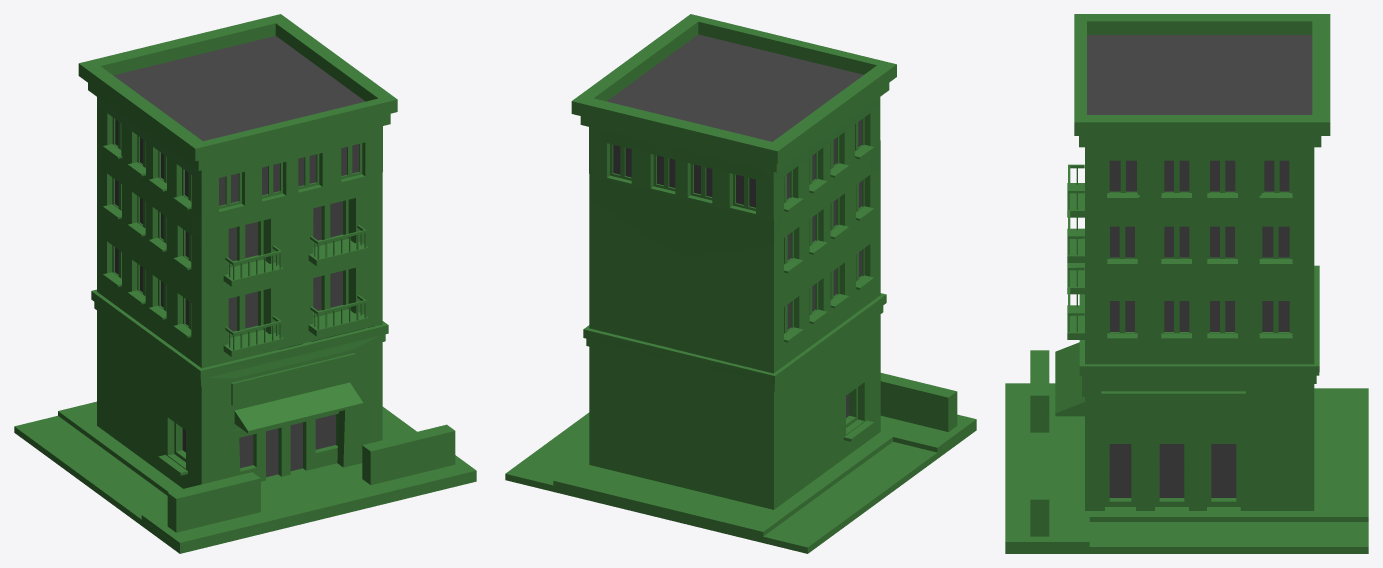
Rendered from Low_Poly_Building_f943ba28.glb.
3 views of the same model, side by side, from view 1: azimuth 30°, elevation 25°; view 2: azimuth 150°, elevation 25°; view 3: azimuth 270°, elevation 25° (orthographic). The views are drawn at different scales.
Parts seen in each view (by area): view 1: Object017_17 - Default_0, Object016_16 - Defaultghj_0, Object019_04_0, Object018_06 - Default_0, Object014_15 - Default6_0, Object020_15 - Default_0, Object015_17 - Default_0; view 2: Object016_16 - Defaultghj_0, Object018_06 - Default_0, Object017_17 - Default_0, Object019_04_0, Object014_15 - Default6_0; view 3: Object017_17 - Default_0, Object016_16 - Defaultghj_0, Object019_04_0, Object018_06 - Default_0, Object014_15 - Default6_0, Object020_15 - Default_0.
Part boxes in pixels (bbox=[...]): Object017_17 - Default_0: bbox=[58, 14, 476, 547]; Object016_16 - Defaultghj_0: bbox=[94, 97, 385, 386]; Object019_04_0: bbox=[113, 36, 365, 477]; Object018_06 - Default_0: bbox=[88, 83, 390, 488]; Object014_15 - Default6_0: bbox=[14, 407, 476, 553]; Object020_15 - Default_0: bbox=[231, 330, 363, 433]; Object015_17 - Default_0: bbox=[232, 354, 355, 405]; Object016_16 - Defaultghj_0: bbox=[586, 97, 883, 391]; Object018_06 - Default_0: bbox=[580, 83, 889, 509]; Object017_17 - Default_0: bbox=[553, 14, 976, 536]; Object019_04_0: bbox=[607, 34, 863, 417]; Object014_15 - Default6_0: bbox=[505, 373, 976, 553]; Object017_17 - Default_0: bbox=[1005, 14, 1368, 546]; Object016_16 - Defaultghj_0: bbox=[1082, 147, 1316, 383]; Object019_04_0: bbox=[1087, 35, 1312, 497]; Object018_06 - Default_0: bbox=[1079, 136, 1321, 510]; Object014_15 - Default6_0: bbox=[1005, 350, 1368, 553]; Object020_15 - Default_0: bbox=[1055, 342, 1245, 433].
Bounding box in the file's own units: 154 × 184 × 149.
